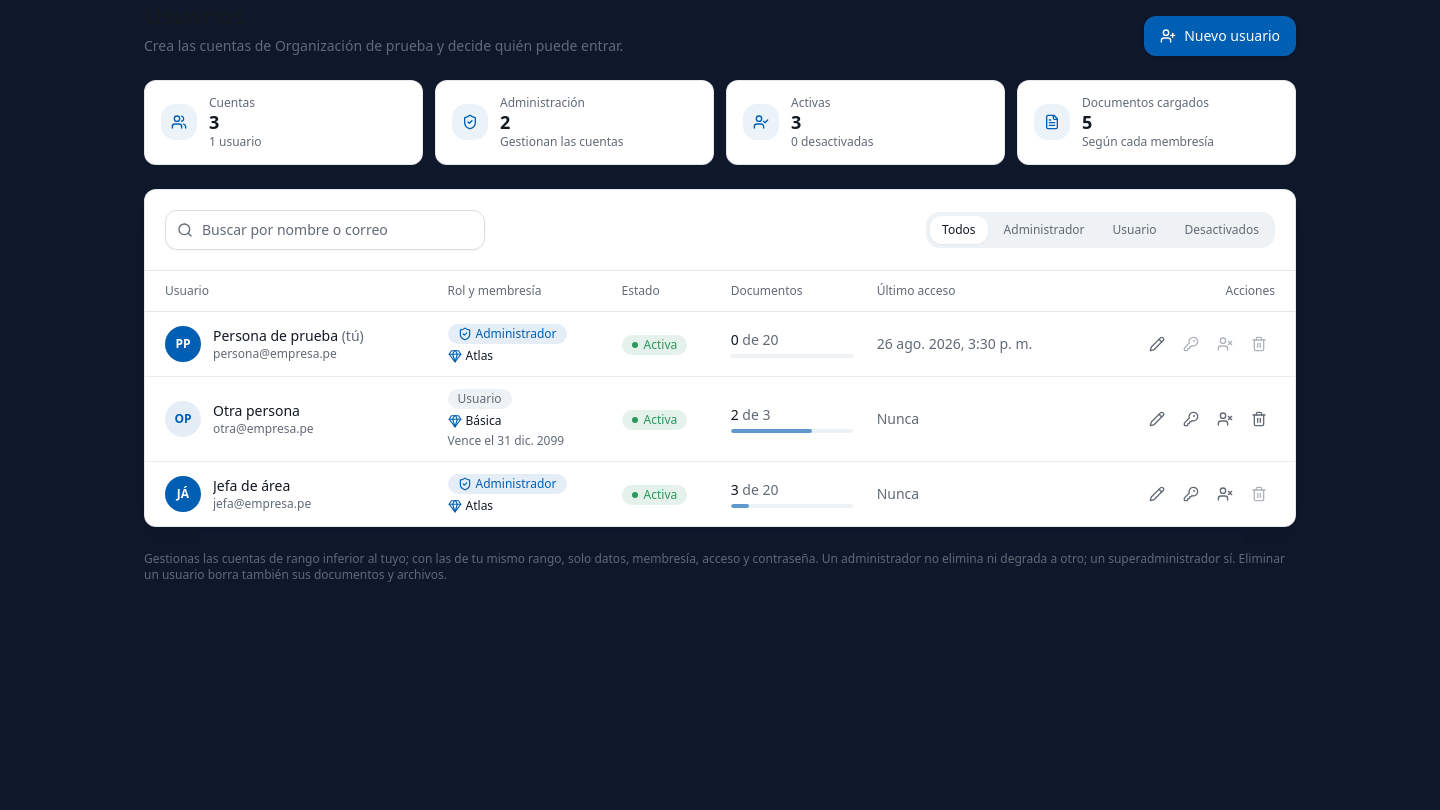
MembersPage: alta › crea un administrador con la contraseña que escribe quien administra
The width and height of the screenshot is (1440, 810).
Expected: the text "Otra persona" is shown, [213,400,314,420]
Click the button "Nuevo usuario": [1220, 36] box [1144,16,1296,56]
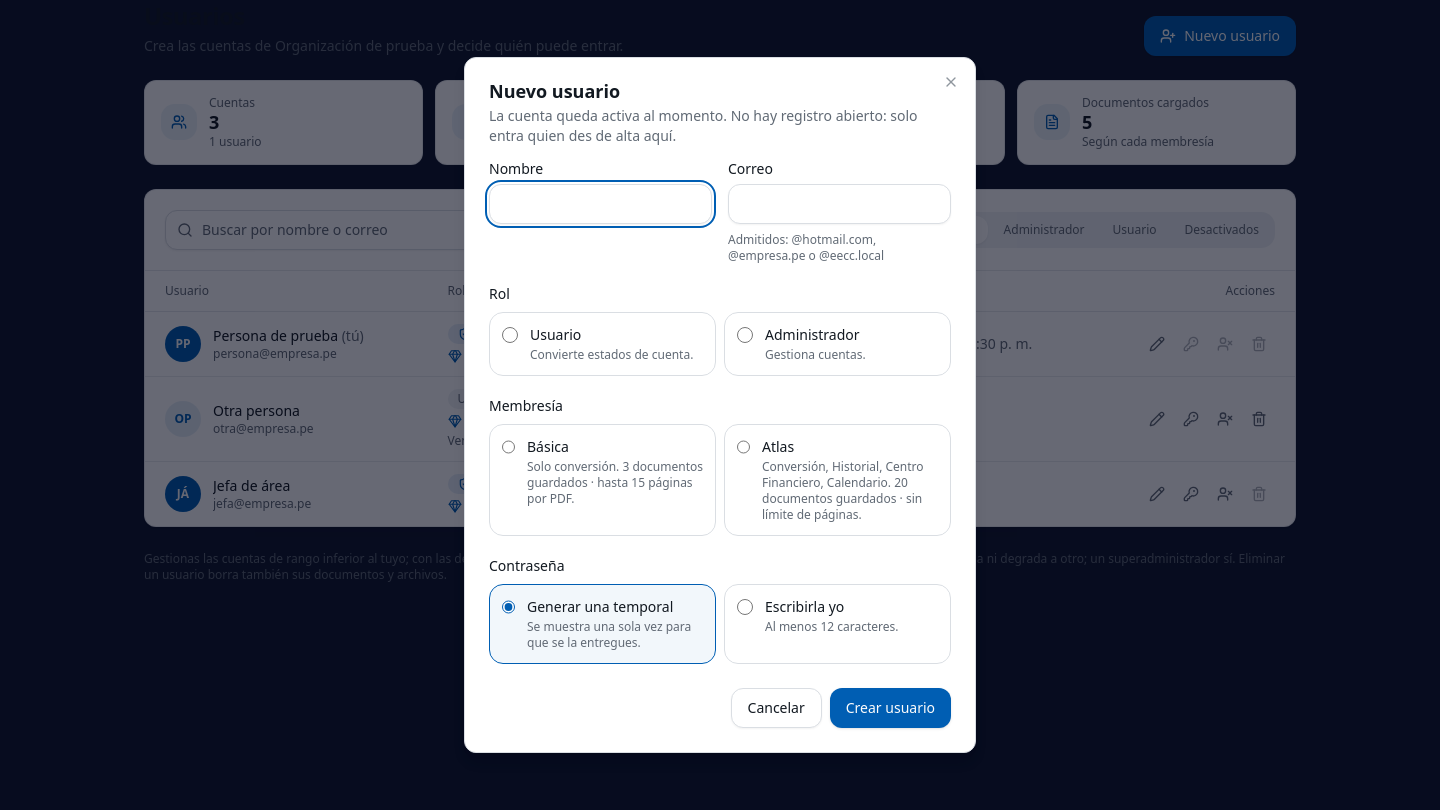
In the field labelled "Nombre": [600, 204] box [489,184,712,224], type "Nuevo admin"
In the field labelled "Correo": [840, 204] box [728,184,951,224], type "nuevo-admin@empresa.pe"
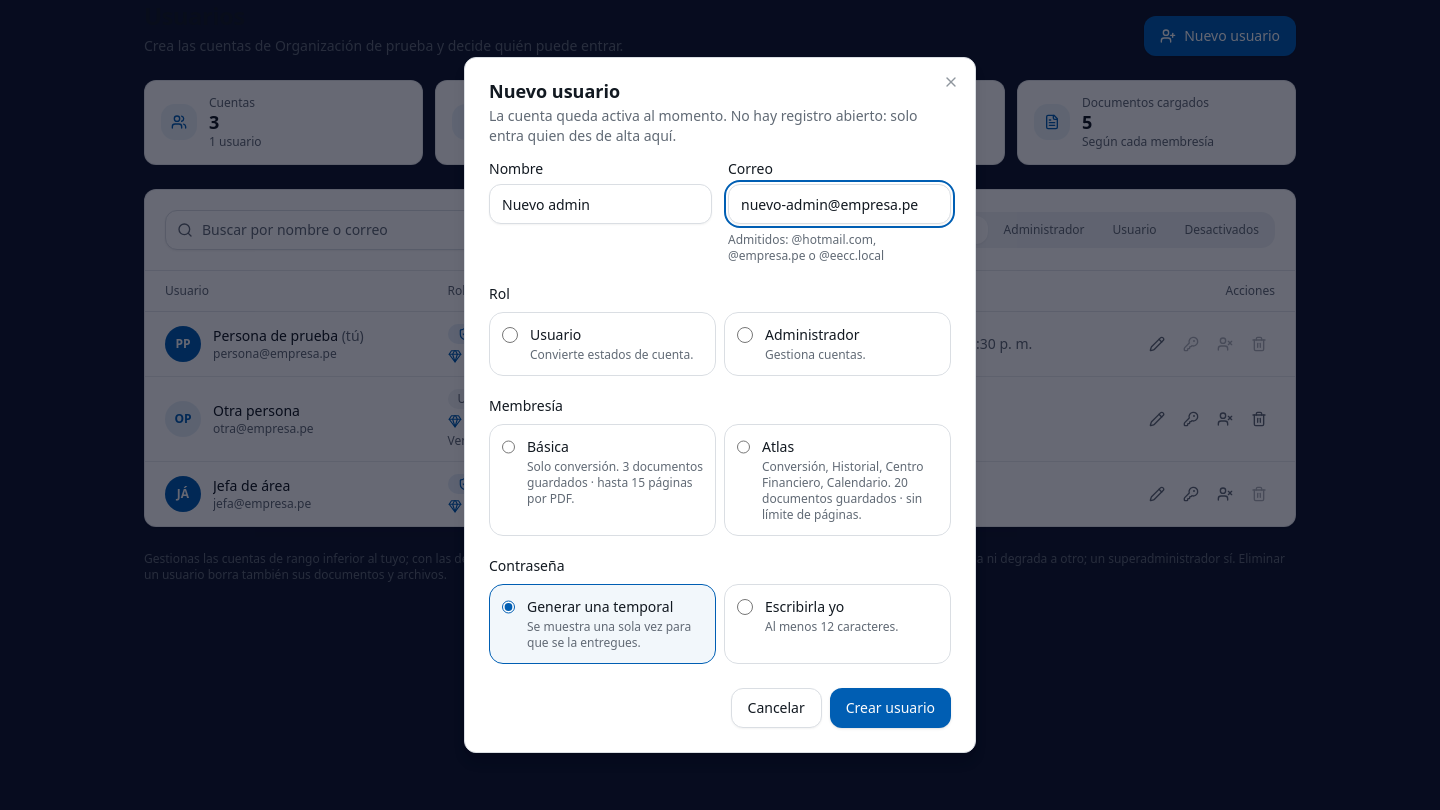
Click the radio button labelled "Administrador Gestiona cuentas.": [745, 335] box [737,327,753,343]
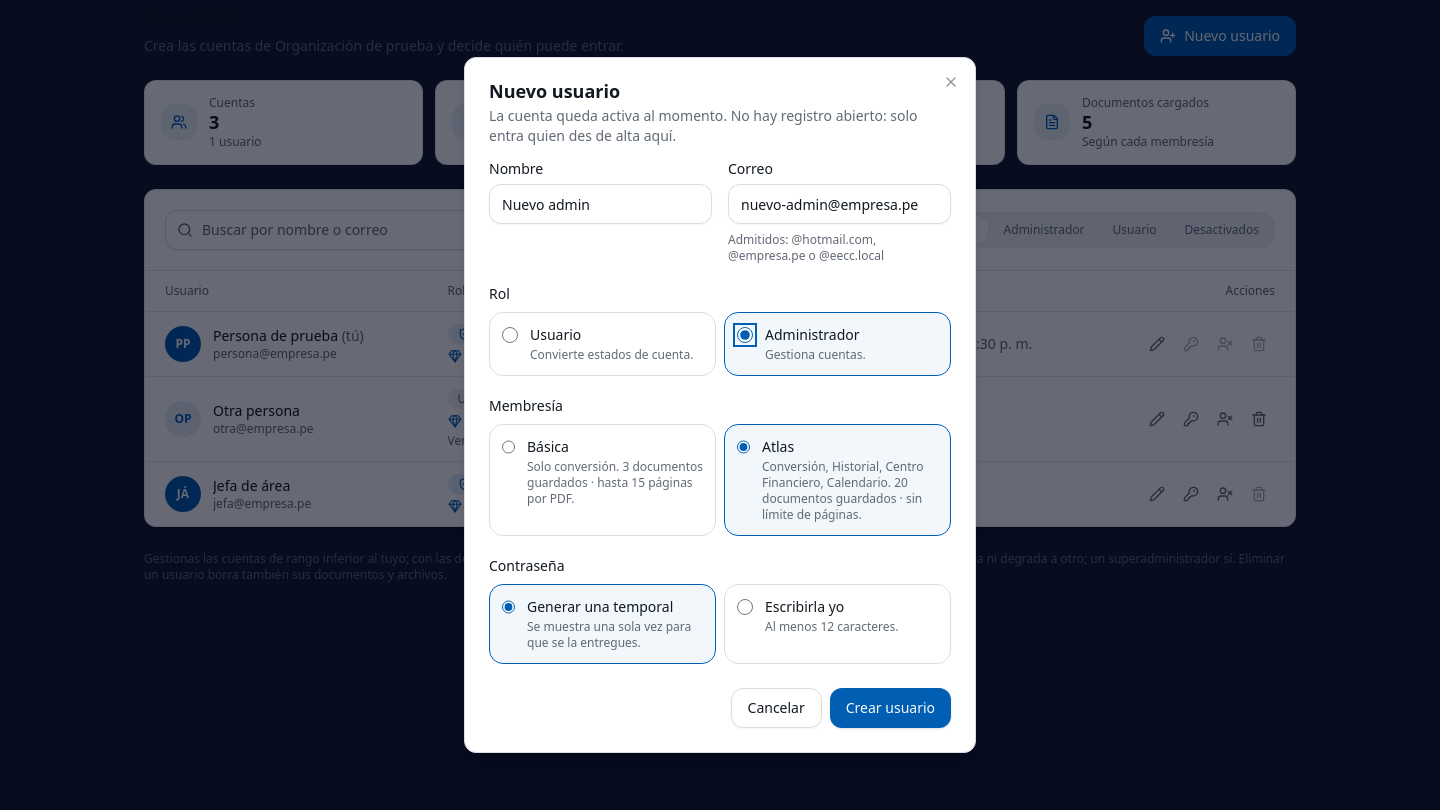
Expected: the radio button labelled "Atlas" is checked, [737,439,750,455]
Click the radio button labelled "Escribirla yo Al menos 12 caracteres.": [745, 607] box [737,599,753,615]
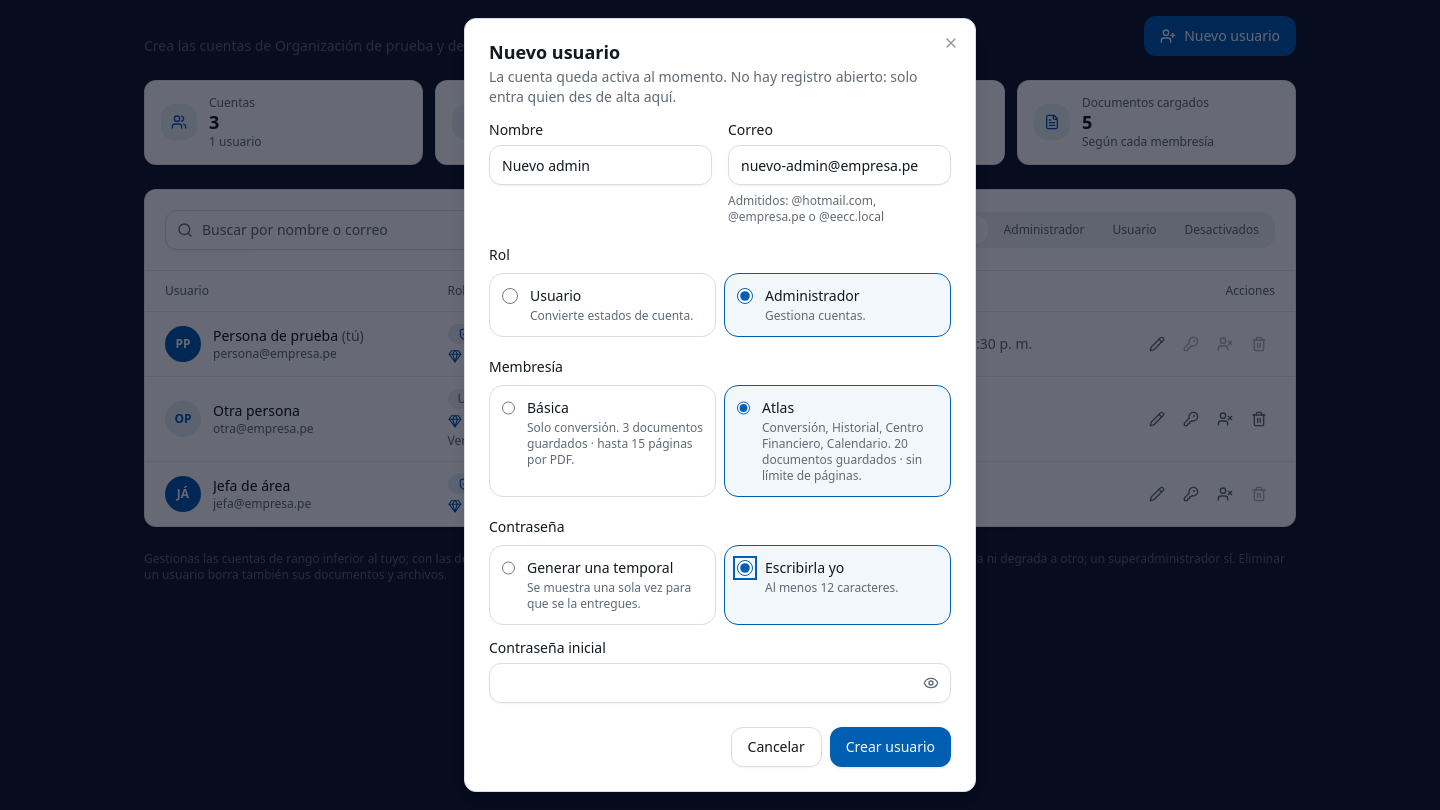
In the password field labelled "Contraseña inicial": [720, 683] box [489,663,951,703], type "una-clave-bien-larga"
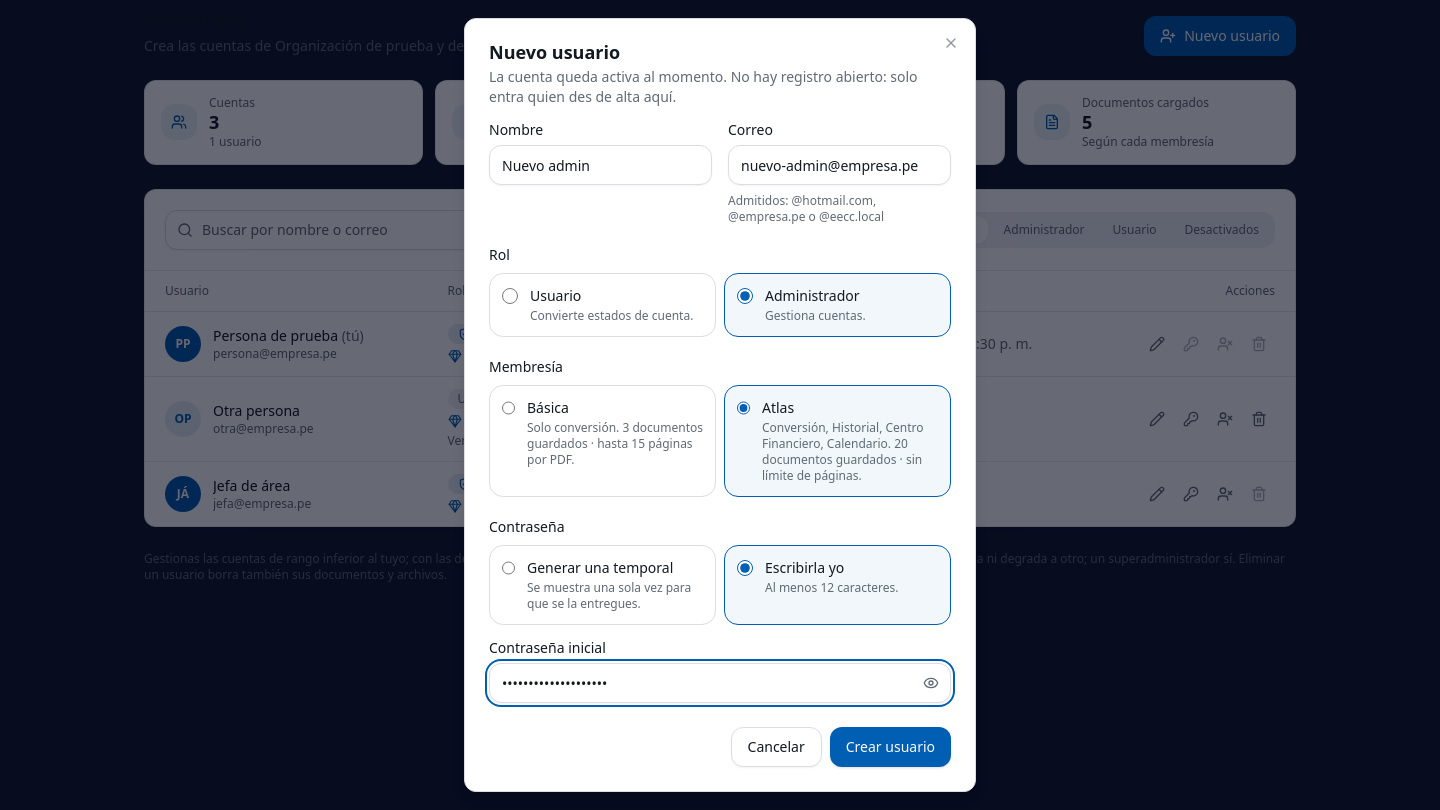
Click the button "Crear usuario": [890, 747] box [830,727,951,767]
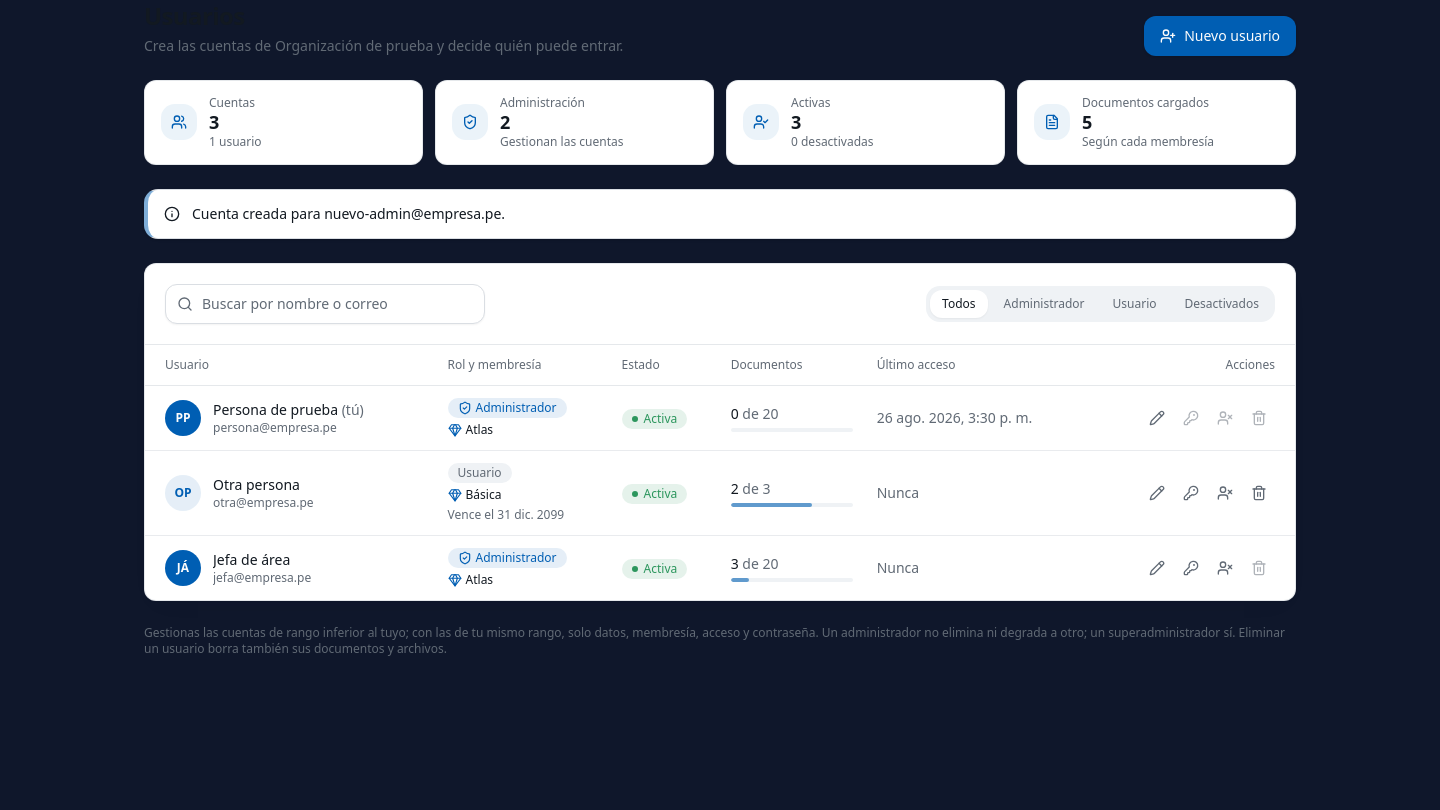
Expected: the text "Cuenta creada para nuevo-admin@empresa.pe." is shown, [191,202,505,222]
